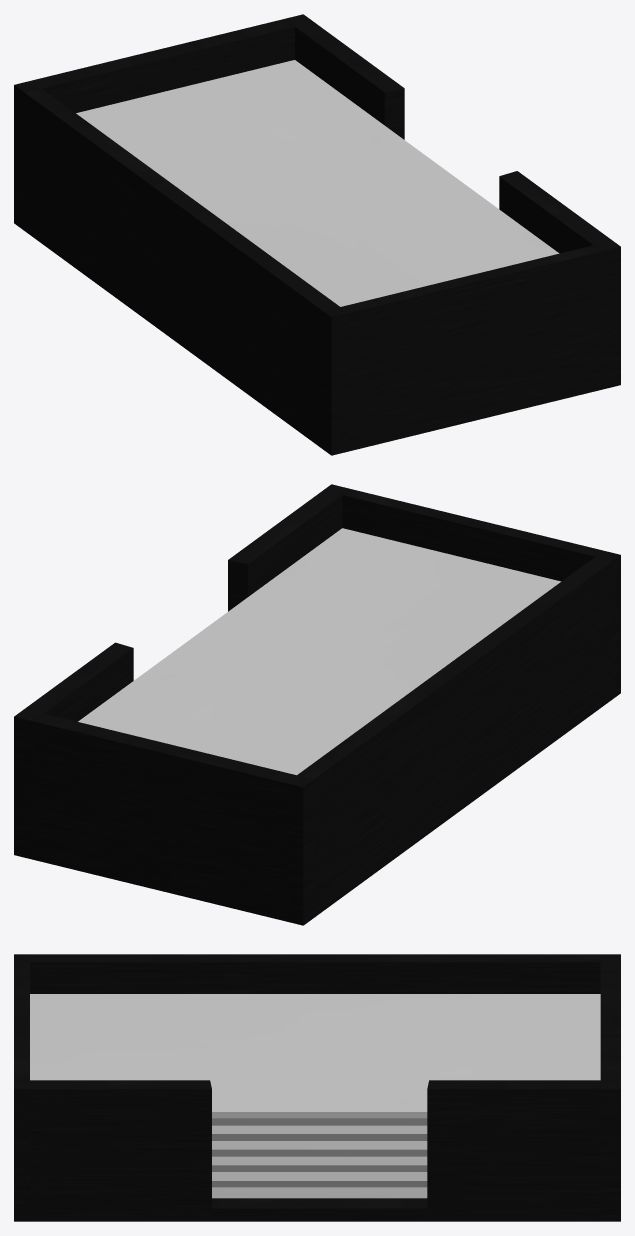
The model's file is sticker_stamper.gltf.
3 views of the same model, one above another, from view 1: azimuth 30°, elevation 25°; view 2: azimuth 150°, elevation 25°; view 3: azimuth 270°, elevation 25° (orthographic). The views are drawn at different scales.
Parts seen in each view (by area): view 1: Box, etikettenstapel; view 2: Box, etikettenstapel; view 3: Box, etikettenstapel.
Part boxes in pixels (box(x1,y1,x2,y2)): Box: box(14, 14, 620, 455); etikettenstapel: box(76, 60, 559, 306); Box: box(14, 484, 620, 925); etikettenstapel: box(78, 528, 561, 775); Box: box(14, 954, 620, 1221); etikettenstapel: box(30, 994, 600, 1198).
Bounding box in the file's own units: 1.05 × 0.481 × 2.
2 materials, 2 textured.
